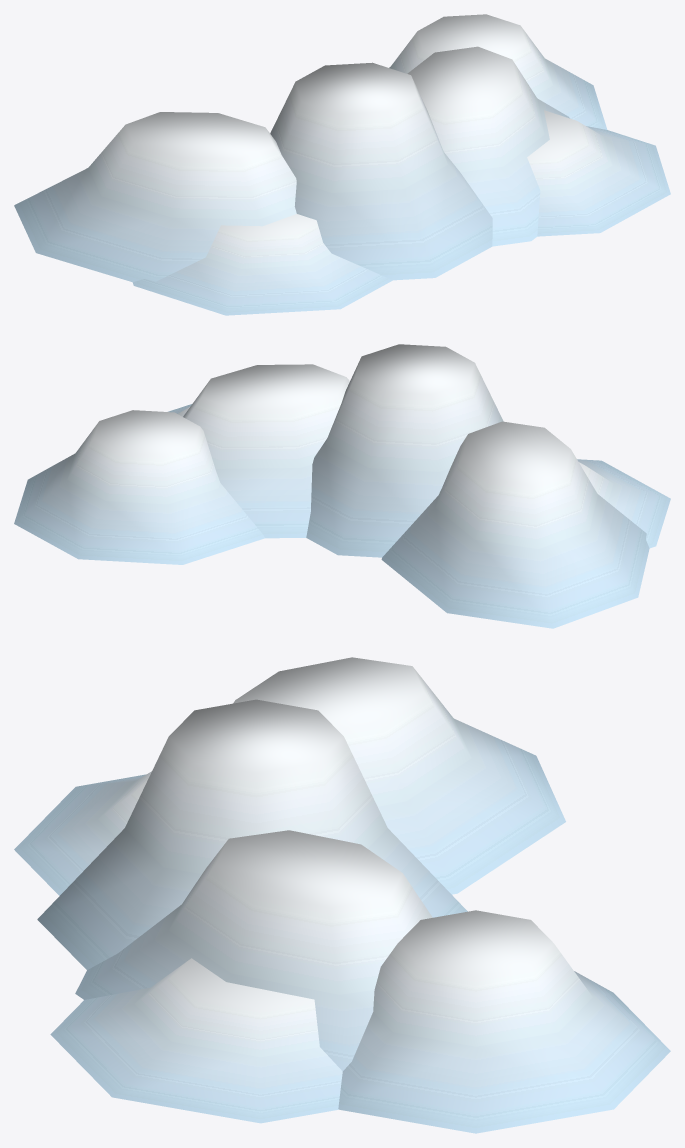
File: snow-bunker.glb
3 renders of one model, top to bottom at view 1: azimuth 30°, elevation 25°; view 2: azimuth 150°, elevation 25°; view 3: azimuth 270°, elevation 25°, orthographic. The views are drawn at different scales.
Parts seen in each view (by area): view 1: snow-bunker; view 2: snow-bunker; view 3: snow-bunker.
Boxes of the visible parts, bbox=[...] form: snow-bunker: bbox=[14, 14, 670, 315]; snow-bunker: bbox=[14, 344, 670, 628]; snow-bunker: bbox=[14, 657, 670, 1133].
Bounding box in the file's own units: 1.94 × 0.4137 × 1.35.
1 material, 1 textured.
